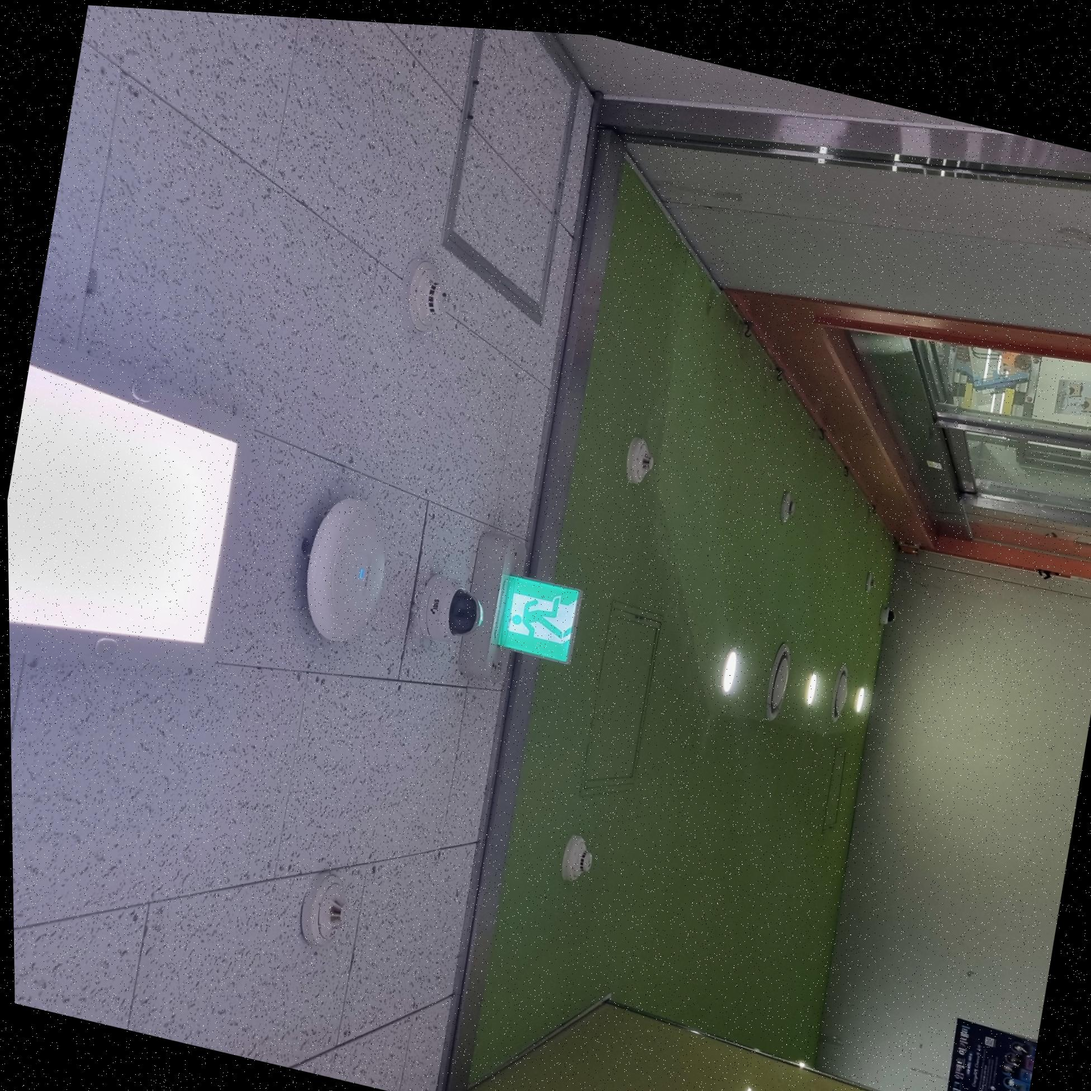emergency_exit: (490, 572, 582, 665)
